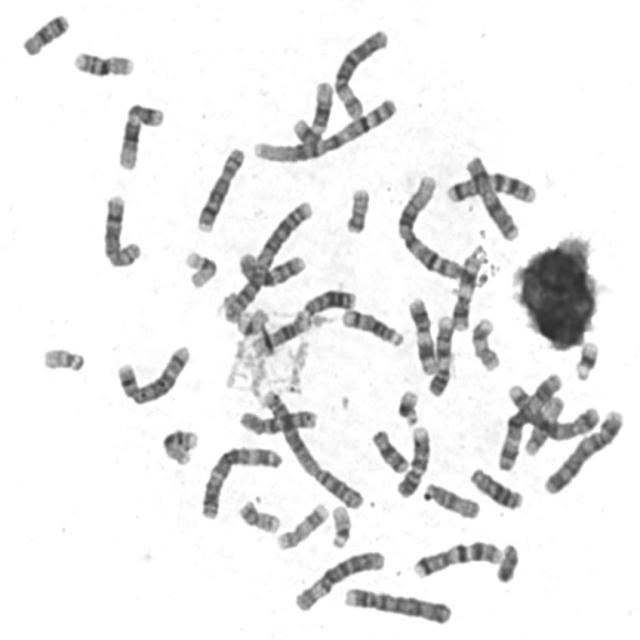A1: (248, 92, 399, 164), (392, 170, 478, 285)
A2: (258, 384, 366, 512), (218, 196, 316, 324)
A3: (494, 369, 564, 474), (197, 442, 285, 522)
B4: (540, 406, 626, 497), (339, 582, 454, 626)
B5: (504, 380, 603, 443), (112, 341, 192, 407)
C10: (234, 247, 308, 288), (236, 404, 320, 438)
C11: (449, 246, 485, 333), (404, 294, 438, 376)
C12: (114, 98, 166, 172), (289, 76, 336, 147)
C6: (290, 546, 386, 614), (329, 24, 391, 121)
C7: (409, 536, 503, 581), (442, 168, 539, 206)
C8: (192, 143, 247, 234), (98, 190, 144, 269)
C9: (392, 422, 432, 499), (425, 311, 456, 398)
D13: (466, 464, 524, 511), (297, 284, 358, 318)
D14: (249, 311, 314, 358), (338, 304, 406, 348)
D15: (521, 393, 566, 457), (419, 478, 481, 522)
E16: (69, 46, 136, 79), (158, 425, 200, 467)
E17: (273, 499, 330, 553), (468, 314, 503, 374)
E18: (18, 9, 71, 57), (367, 425, 410, 475)
F19: (181, 247, 220, 290), (232, 304, 270, 338)
F20: (234, 496, 282, 536), (341, 183, 371, 236)
G21: (571, 337, 601, 383), (394, 386, 422, 428)
G22: (38, 344, 87, 374), (327, 500, 353, 550)
X: (462, 152, 522, 242)
Y: (492, 540, 521, 584)
